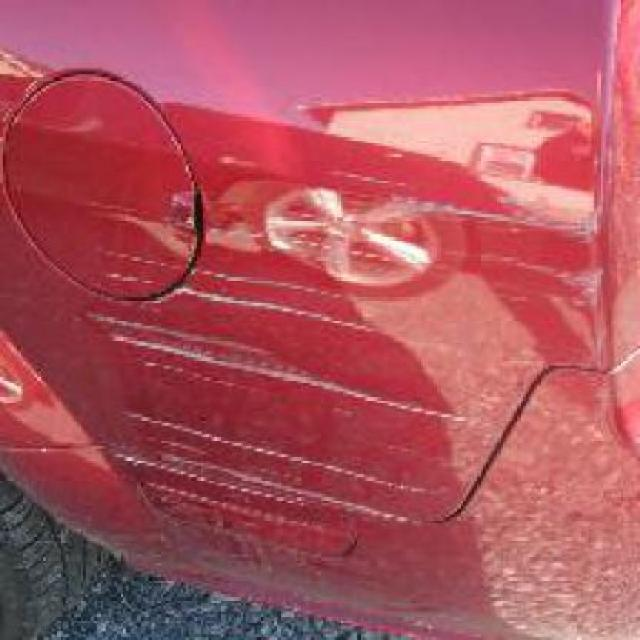dent-or-scratch: (88, 168, 430, 550)
